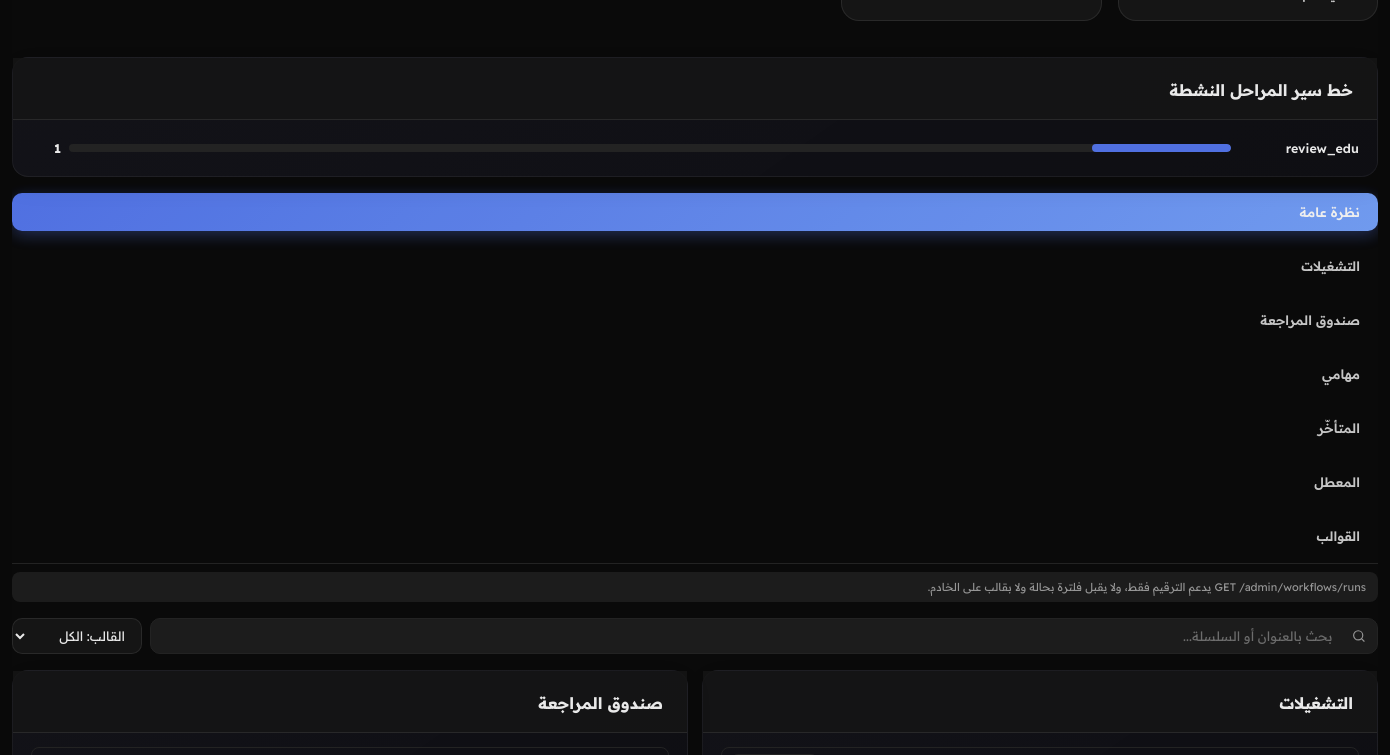
WorkflowPage › the tab is written to the URL, and only the tab
The image size is (1390, 755).
(page scrolled)
Expected: the tab "نظرة عامة" is shown, [12, 193, 1378, 231]
Click the tab "مهامي": (1341, 374) [12, 355, 1378, 393]
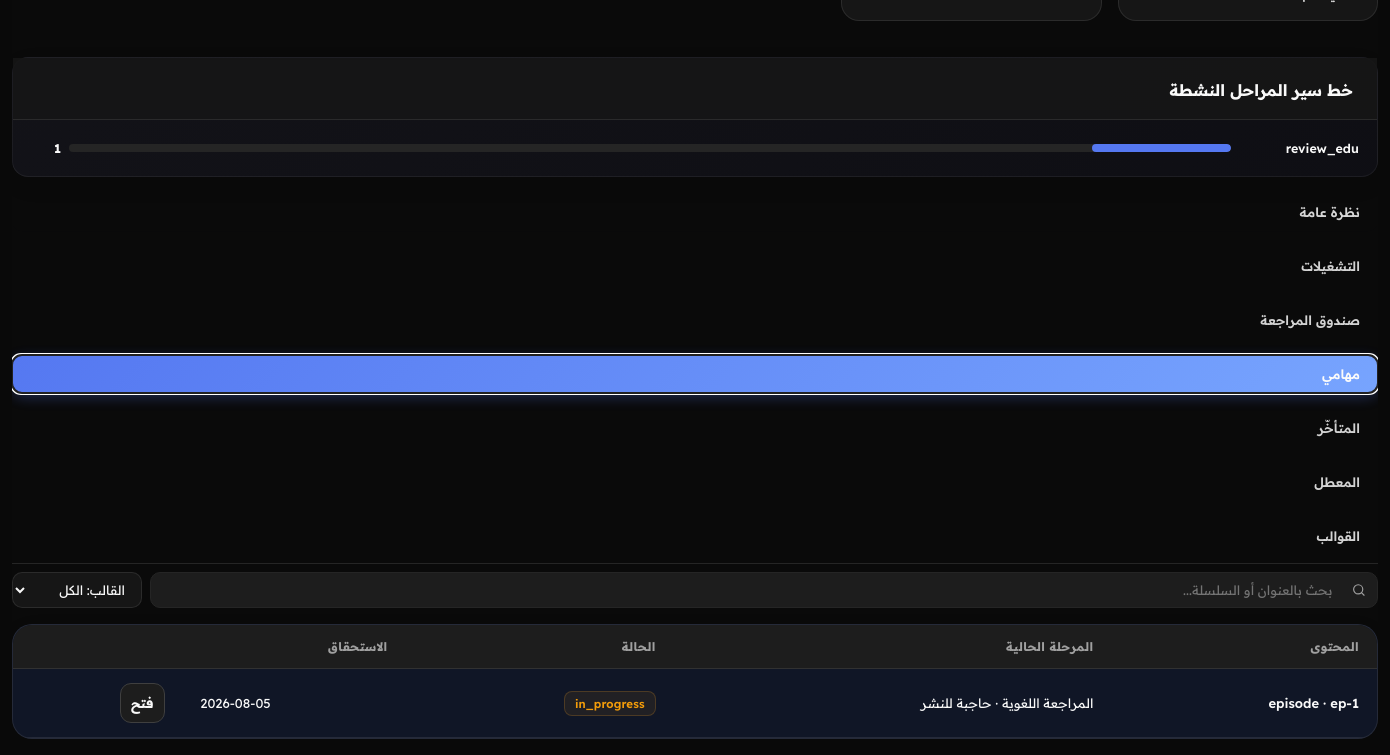
Result: the text "المراجعة اللغوية · حاجبة للنشر" is shown at [674, 669, 1111, 738]
